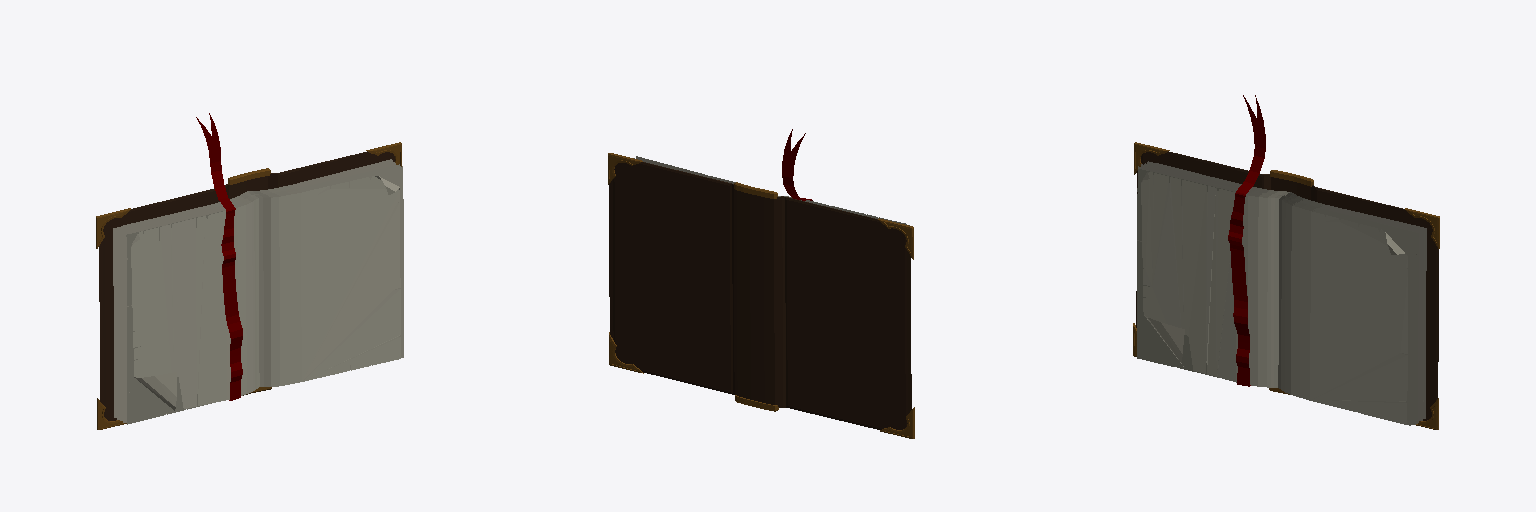
File: book.obj
3 renders of one model, left to right at view 1: azimuth 30°, elevation 25°; view 2: azimuth 150°, elevation 25°; view 3: azimuth 330°, elevation 25°, orthographic.
Visible parts, largest first — view 1: object7, object4, object1, object6, object3, object8, object2; view 2: object6, object2, object3; view 3: object7, object4, object1, object6, object3, object8, object2.
Boxes of the visible parts, x1=… form: object7: x1=271, y1=176, x2=400, y2=386; object4: x1=131, y1=198, x2=259, y2=408; object1: x1=113, y1=159, x2=403, y2=422; object6: x1=99, y1=151, x2=394, y2=420; object3: x1=196, y1=113, x2=242, y2=400; object8: x1=126, y1=211, x2=222, y2=424; object2: x1=96, y1=142, x2=401, y2=429; object6: x1=609, y1=162, x2=911, y2=429; object2: x1=608, y1=153, x2=914, y2=438; object3: x1=782, y1=129, x2=812, y2=200; object7: x1=1285, y1=203, x2=1407, y2=424; object4: x1=1141, y1=172, x2=1278, y2=387; object1: x1=1137, y1=161, x2=1426, y2=425; object6: x1=1136, y1=151, x2=1438, y2=420; object3: x1=1228, y1=95, x2=1265, y2=386; object8: x1=1137, y1=169, x2=1235, y2=377; object2: x1=1133, y1=142, x2=1439, y2=429.
Bounding box in the file's own units: 7.78 × 7.06 × 0.9895.